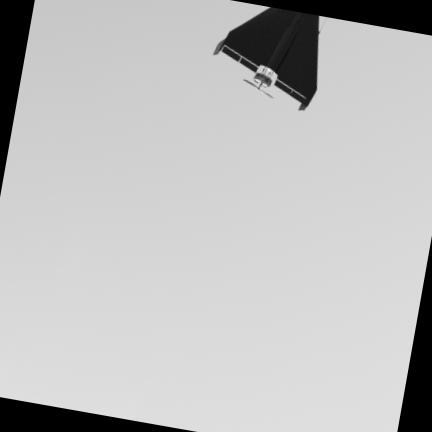Shahed: (213, 6, 319, 109)
